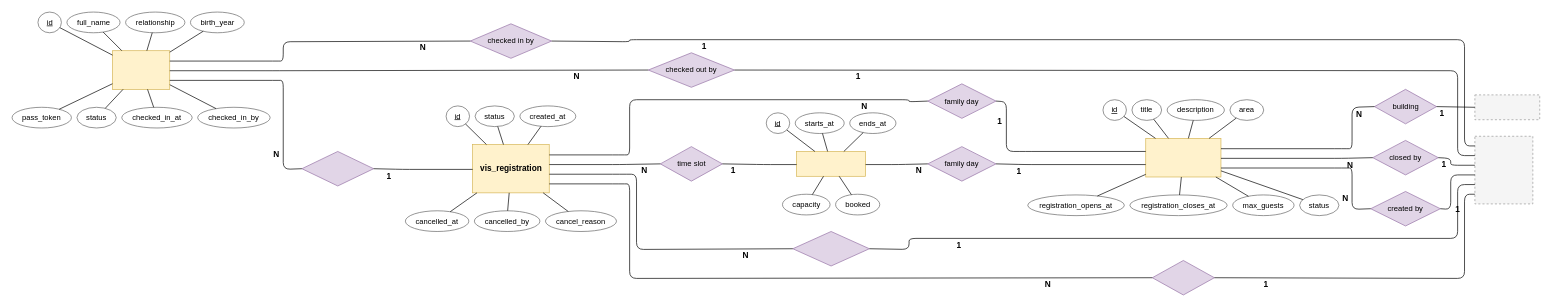
This 1552x307 diagram has some shape labels left out. Here are the shapes that lost their labels. From the top down, the centre of each, then its label:
the point at 141,69: vis_visitor
the point at 1507,107: inv_building
the point at 337,168: registration
the point at 831,163: vis_time_slot
the point at 1183,157: vis_family_day
the point at 1503,170: auth_user
the point at 830,248: cancelled by
the point at 1183,277: student
